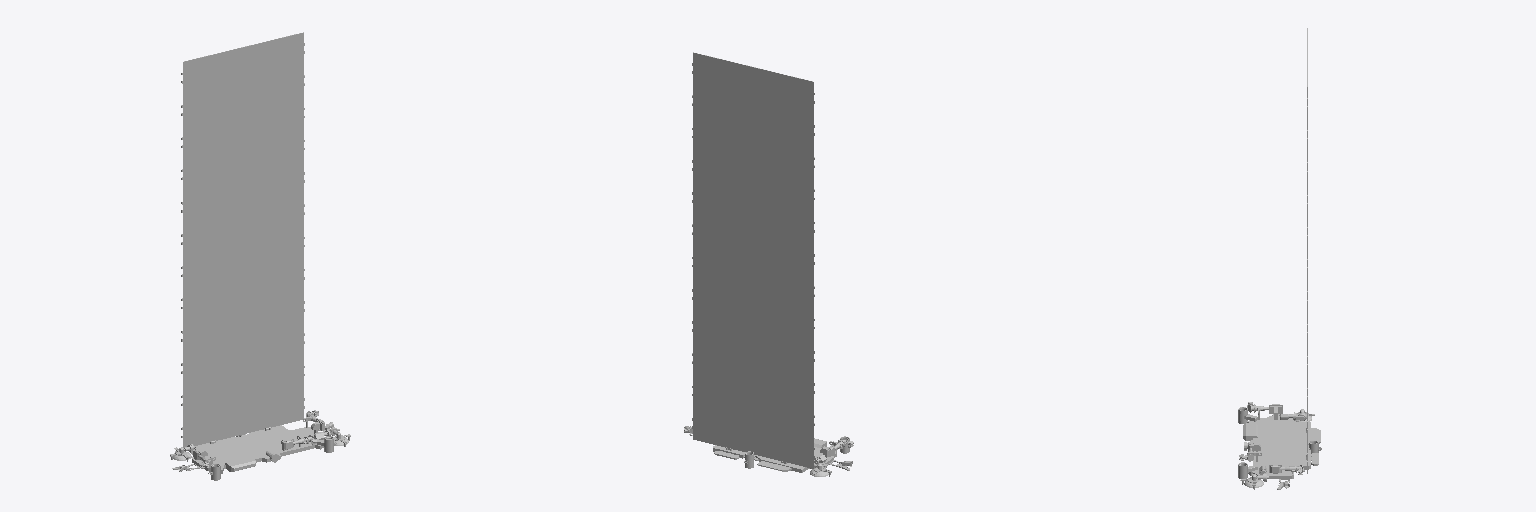
Rendered from starlink_V1.obj.
3 renders of one model, left to right at view 1: azimuth 30°, elevation 25°; view 2: azimuth 150°, elevation 25°; view 3: azimuth 270°, elevation 25°, orthographic.
Parts seen in each view (by area): view 1: solar_panel_Plane.026, Starlink_core_Plane.004; view 2: solar_panel_Plane.026, Starlink_core_Plane.004; view 3: Starlink_core_Plane.004.
Part boxes in pixels (x1,y1,x2,y2): solar_panel_Plane.026: (181, 32, 304, 447); Starlink_core_Plane.004: (172, 410, 339, 480); solar_panel_Plane.026: (692, 52, 814, 468); Starlink_core_Plane.004: (684, 426, 853, 472); Starlink_core_Plane.004: (1238, 402, 1321, 489).
Size of the model in its own units: 2.8 by 6.42 by 1.22.